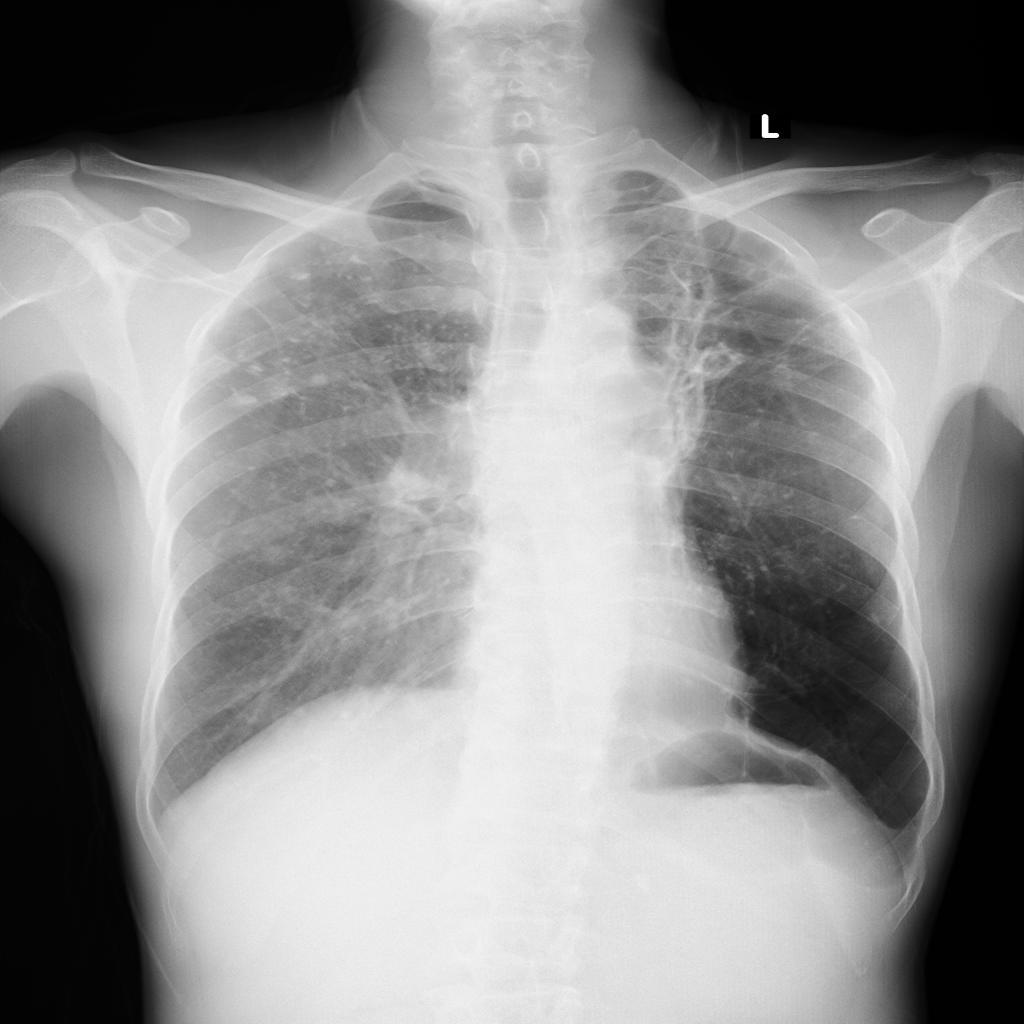Nodule: (263, 543, 289, 561), (309, 369, 329, 391), (233, 389, 256, 408), (244, 363, 264, 377)
